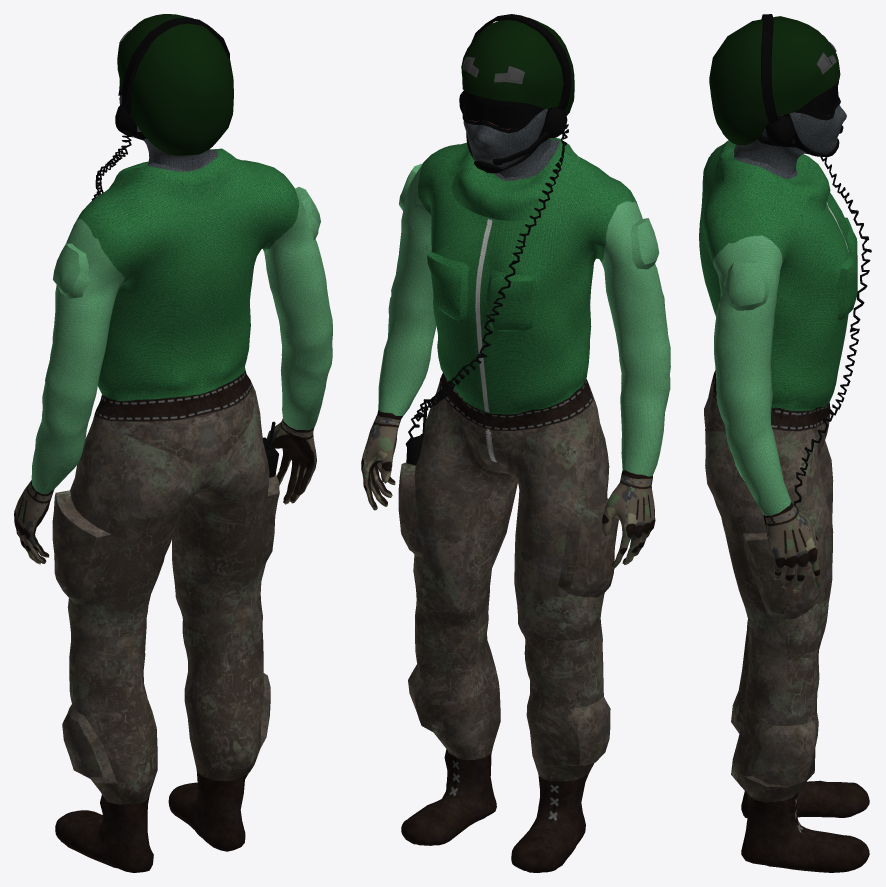
File: crew_green.obj
3 views of the same model, side by side, from view 1: azimuth 30°, elevation 25°; view 2: azimuth 150°, elevation 25°; view 3: azimuth 270°, elevation 25° (orthographic). The views are drawn at different scales.
Visible parts, largest first — view 1: el/carrier_crew.fbx/RootNode/Man.004/Man.004_soldier_green_0, del/carrier_crew.fbx/RootNode/Man.005/Man.005_helmet_green_0, l/carrier_crew.fbx/RootNode/coms.002/coms.002_Material.009_0; view 2: el/carrier_crew.fbx/RootNode/Man.004/Man.004_soldier_green_0, del/carrier_crew.fbx/RootNode/Man.005/Man.005_helmet_green_0, l/carrier_crew.fbx/RootNode/coms.002/coms.002_Material.009_0, ode/coms_spiral_cord.002/coms_spiral_cord.002_Material.004_0, carrier_crew.fbx/RootNode/visor.002/visor.002_glass_visors_0, carrier_crew.fbx/RootNode/visor.002/visor.002_Material.004_0, del/carrier_crew.fbx/RootNode/Man.005/Man.005_helmet_white_0; view 3: el/carrier_crew.fbx/RootNode/Man.004/Man.004_soldier_green_0, del/carrier_crew.fbx/RootNode/Man.005/Man.005_helmet_green_0, l/carrier_crew.fbx/RootNode/coms.002/coms.002_Material.009_0, ode/coms_spiral_cord.002/coms_spiral_cord.002_Material.004_0, carrier_crew.fbx/RootNode/visor.002/visor.002_Material.004_0.
Part boxes in pixels (x1,y1,x2,y2): el/carrier_crew.fbx/RootNode/Man.004/Man.004_soldier_green_0: [14, 95, 332, 872]; del/carrier_crew.fbx/RootNode/Man.005/Man.005_helmet_green_0: [117, 14, 233, 155]; l/carrier_crew.fbx/RootNode/coms.002/coms.002_Material.009_0: [115, 17, 229, 139]; el/carrier_crew.fbx/RootNode/Man.004/Man.004_soldier_green_0: [361, 108, 670, 872]; del/carrier_crew.fbx/RootNode/Man.005/Man.005_helmet_green_0: [461, 17, 574, 115]; l/carrier_crew.fbx/RootNode/coms.002/coms.002_Material.009_0: [459, 14, 571, 173]; ode/coms_spiral_cord.002/coms_spiral_cord.002_Material.004_0: [405, 107, 568, 452]; carrier_crew.fbx/RootNode/visor.002/visor.002_glass_visors_0: [464, 96, 524, 129]; carrier_crew.fbx/RootNode/visor.002/visor.002_Material.004_0: [462, 91, 544, 133]; del/carrier_crew.fbx/RootNode/Man.005/Man.005_helmet_white_0: [462, 56, 524, 84]; el/carrier_crew.fbx/RootNode/Man.004/Man.004_soldier_green_0: [699, 105, 869, 872]; del/carrier_crew.fbx/RootNode/Man.005/Man.005_helmet_green_0: [709, 16, 840, 145]; l/carrier_crew.fbx/RootNode/coms.002/coms.002_Material.009_0: [758, 14, 843, 156]; ode/coms_spiral_cord.002/coms_spiral_cord.002_Material.004_0: [793, 157, 871, 511]; carrier_crew.fbx/RootNode/visor.002/visor.002_Material.004_0: [794, 81, 840, 120].
Bounding box in the file's own units: 0.6571 × 1.8 × 0.3434.
9 materials, 2 textured.
